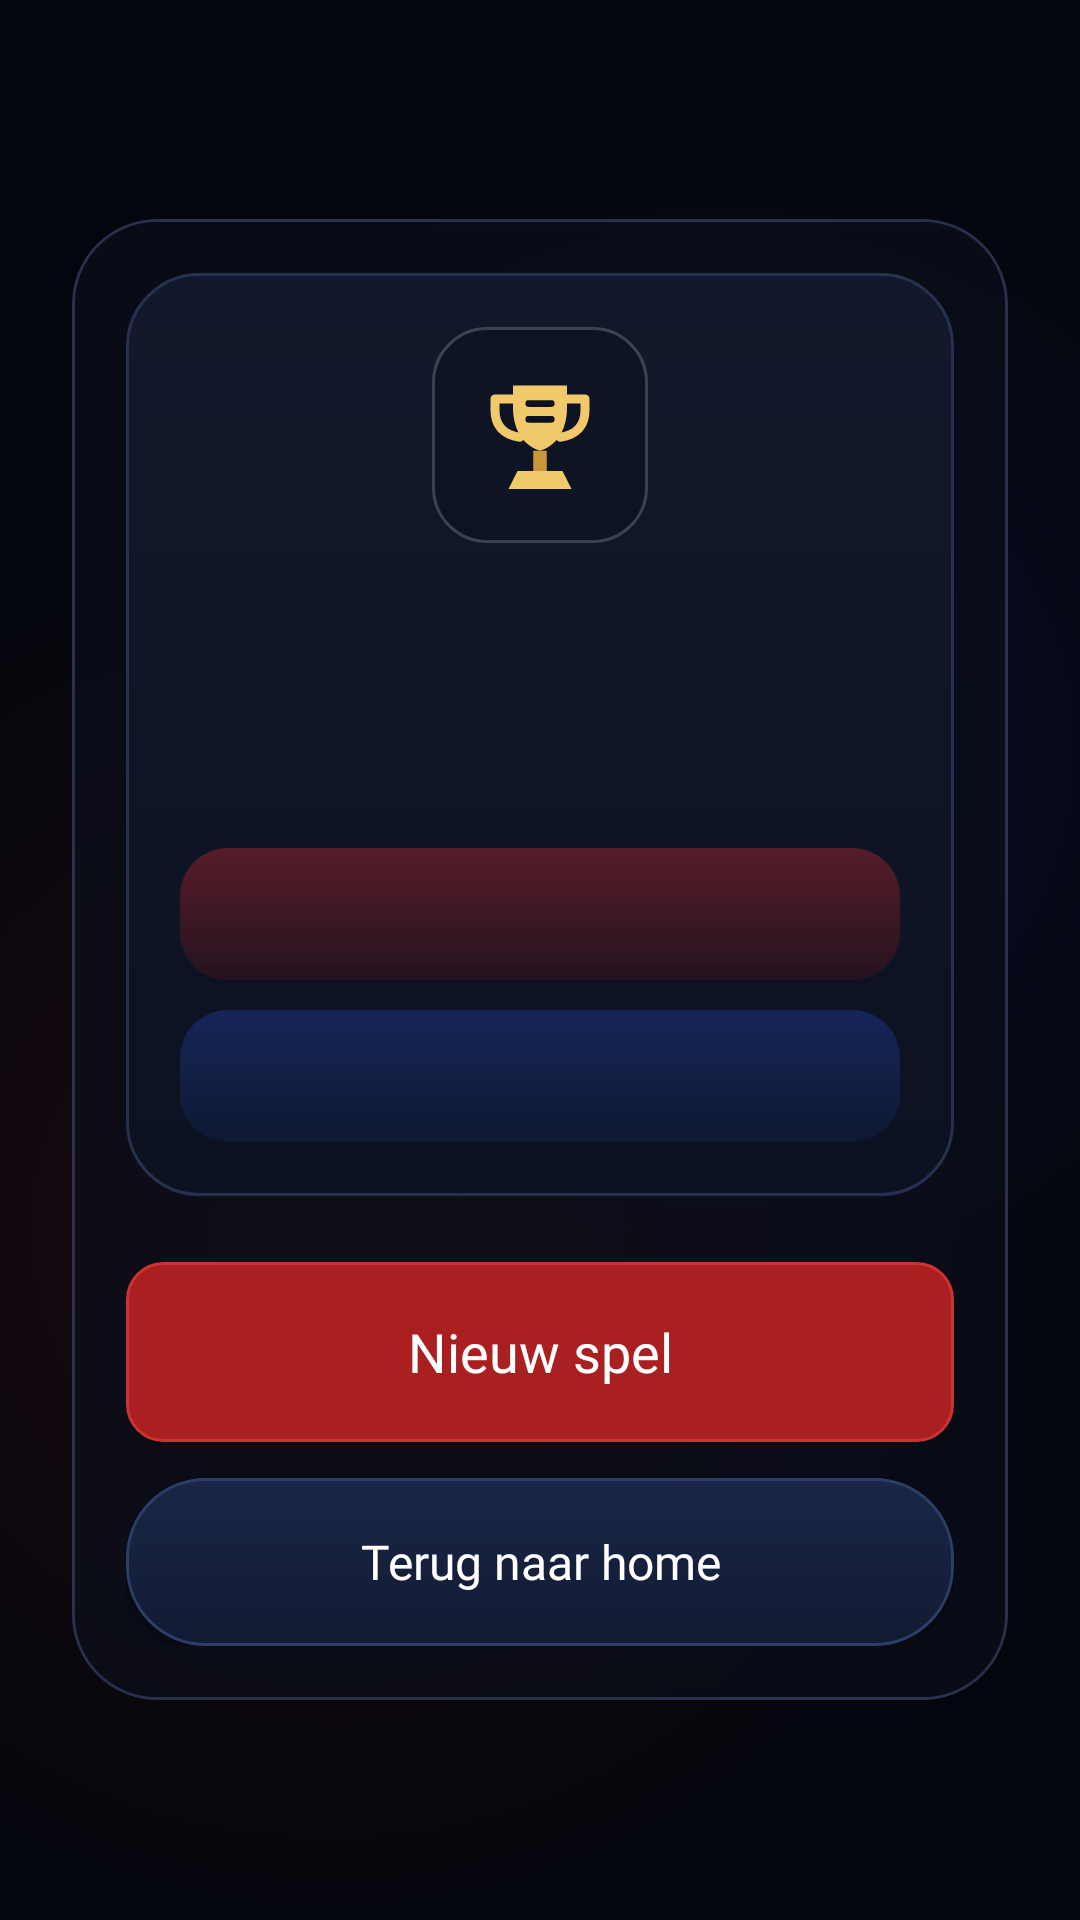

Named icons in this screenshot (1080*1920) and their centers, (x,y):
Eindstand: (540,435)
